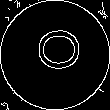O_W: (29, 33, 81, 77)
